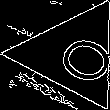O_NW: (35, 23, 110, 86)
